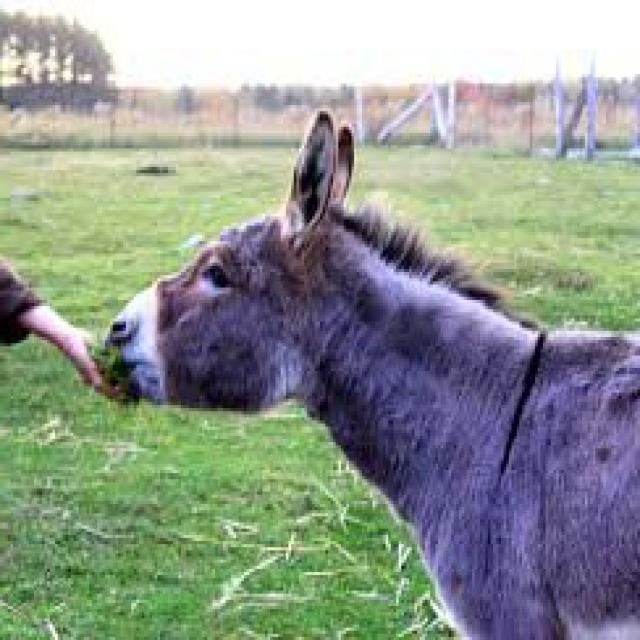donkey: (108, 111, 640, 637)
